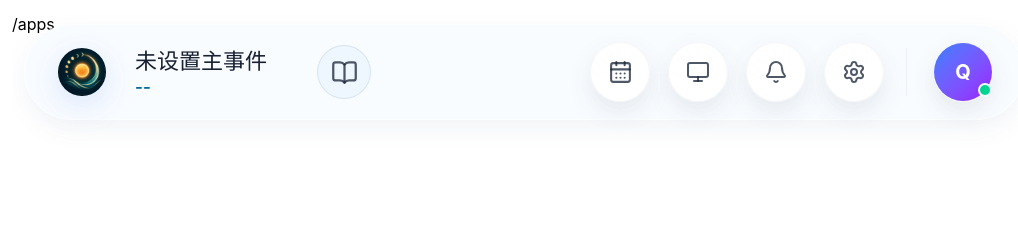
Test case: Navigation › clears the current session and redirects to login when logging out
Click the button named "打开用户菜单" at (963, 72), box [933,42,993,102]
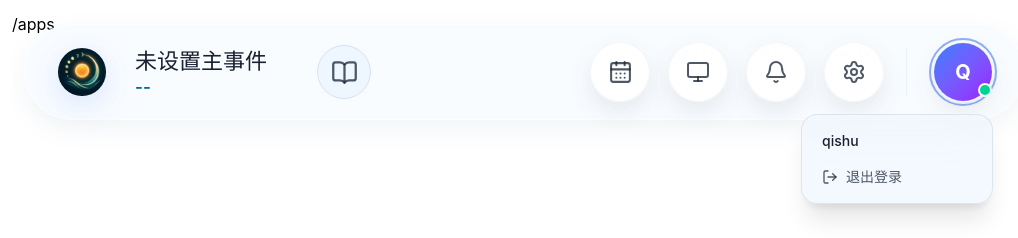
Click the button "退出登录" at (897, 177), box [810,159,984,195]
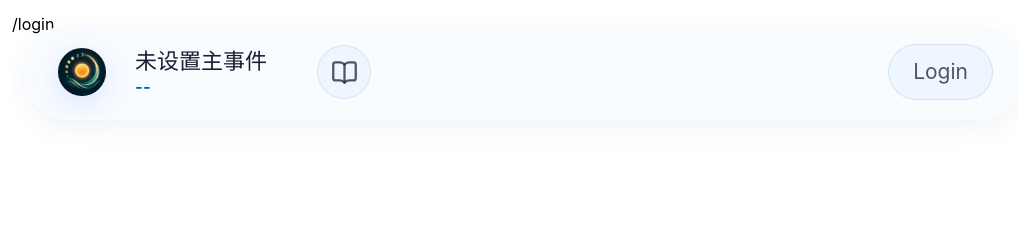
Check: the text with test id "current-path" reads "/login", box [12,14,54,34]
